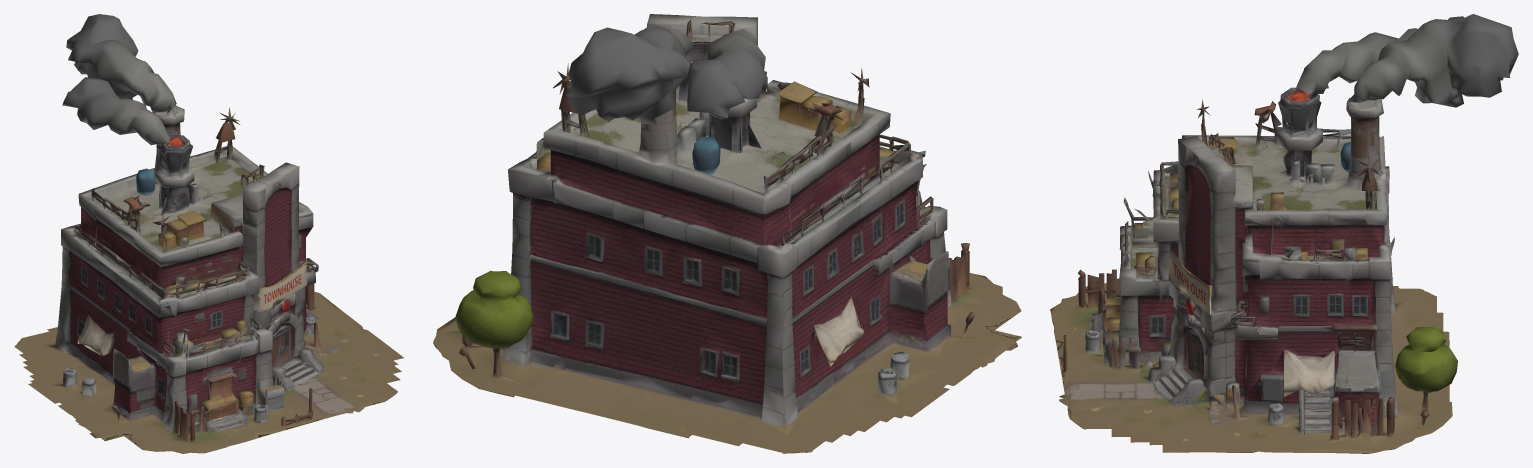
Rendered from capital.glb.
3 views of the same model, side by side, from view 1: azimuth 30°, elevation 25°; view 2: azimuth 150°, elevation 25°; view 3: azimuth 270°, elevation 25° (orthographic). The views are drawn at different scales.
Visible parts, largest first — view 1: tripo_node_d30fb828-bf5c-416f-b989-fe342bf522ab; view 2: tripo_node_d30fb828-bf5c-416f-b989-fe342bf522ab; view 3: tripo_node_d30fb828-bf5c-416f-b989-fe342bf522ab.
Boxes of the visible parts, x1,y1,x2,y2 form: tripo_node_d30fb828-bf5c-416f-b989-fe342bf522ab: (14, 14, 403, 453); tripo_node_d30fb828-bf5c-416f-b989-fe342bf522ab: (433, 14, 1021, 453); tripo_node_d30fb828-bf5c-416f-b989-fe342bf522ab: (1050, 14, 1518, 453).
Size of the model in its own units: 0.9242 by 0.7942 by 1.
Materials: 1 (1 with a texture image).
